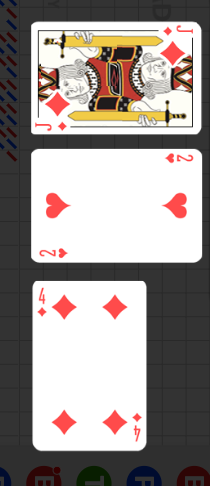2H: (38, 246, 70, 259), (163, 152, 194, 165)
4D: (131, 411, 143, 442)
